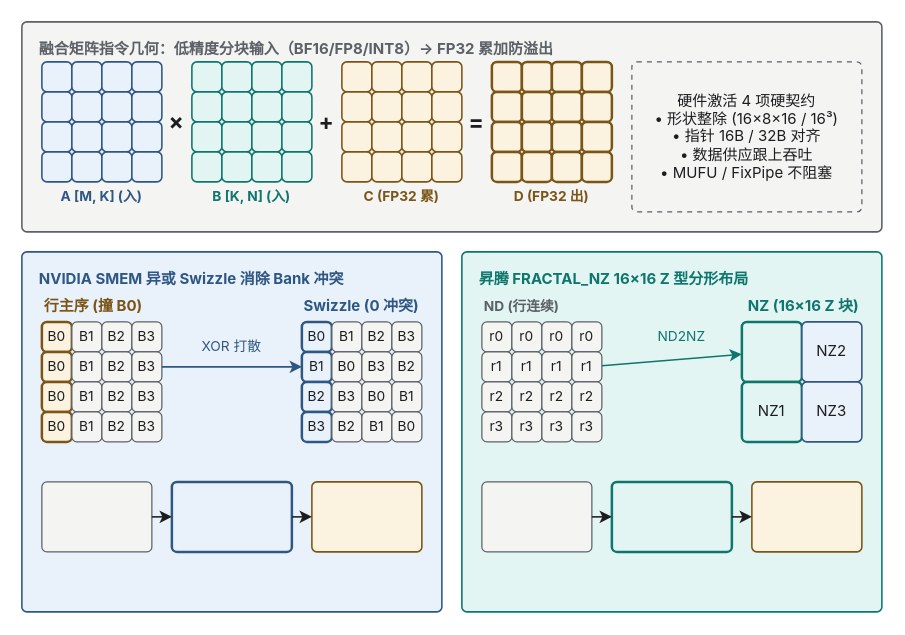
The diagram is 905 pixels wide and 635 high, and some of its shapes have lost their labels. The shapes that lost their labels are listed below. From the top down, each one's centre as x and y in pixels, then its label:
At (771,351): "NZ0".
At (96,516): "TMA 16B ND 块读取".
At (231,516): "Tensor Core WGMMA".
At (366,516): "Reg / TMEM 可原地缩放".
At (536,516): "L0A / L0B 64 KB 馈送".
At (671,516): "Cube 16³ MMAD (M≥64)".
At (806,516): "L0C 256 KB FixPipe→UB".
